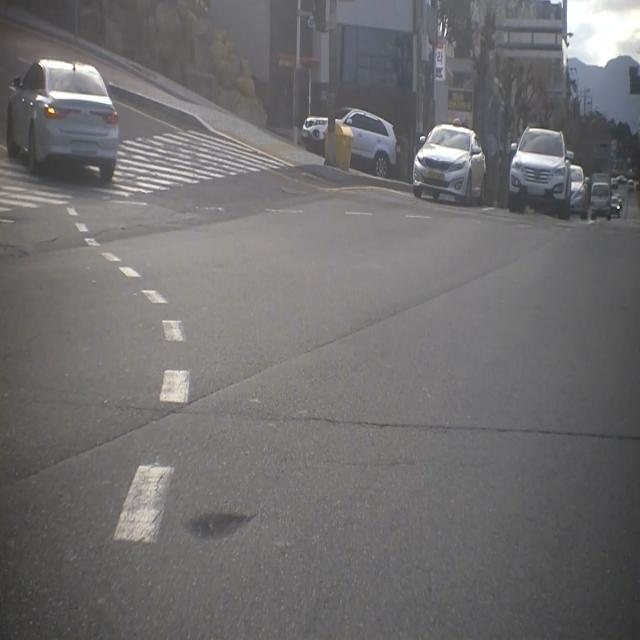pothole: (183, 503, 263, 557)
